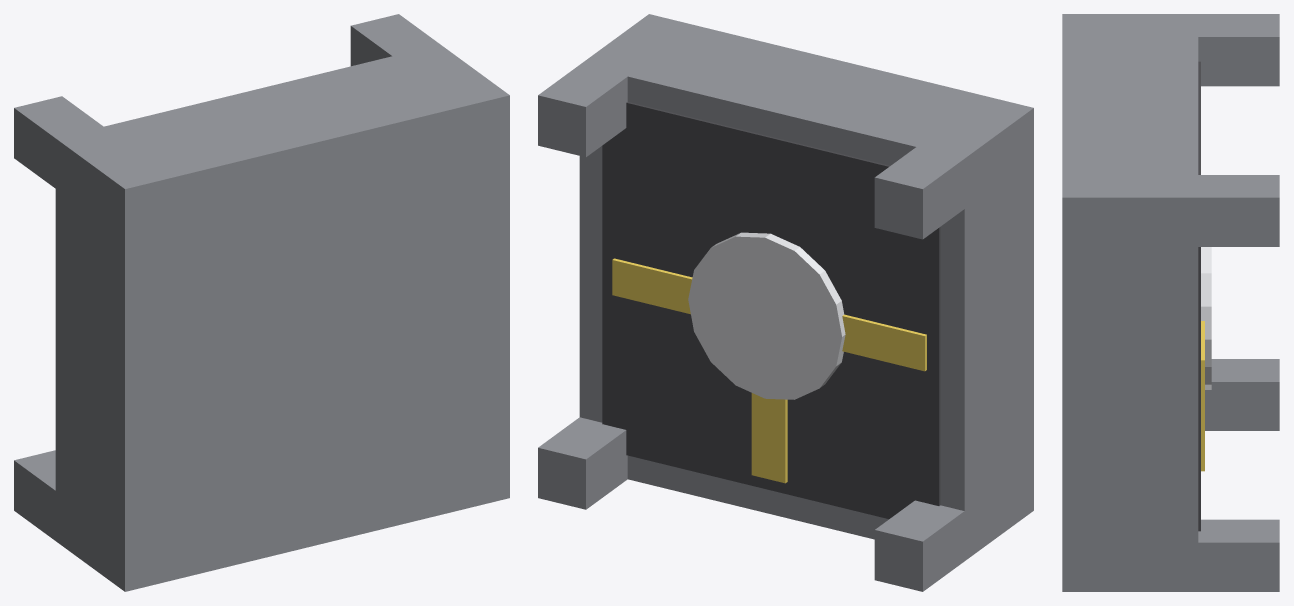
Rendered from sorter_held.gltf.
3 views of the same model, side by side, from view 1: azimuth 30°, elevation 25°; view 2: azimuth 150°, elevation 25°; view 3: azimuth 270°, elevation 25° (orthographic). The views are drawn at different scales.
Visible parts, largest first — view 1: conveyor_sorter_held; view 2: conveyor_sorter_held; view 3: conveyor_sorter_held.
Part boxes in pixels (x1,y1,x2,y2): conveyor_sorter_held: (14,14,509,591); conveyor_sorter_held: (538,14,1033,591); conveyor_sorter_held: (1062,14,1279,591).
Bounding box in the file's own units: 0.16 × 0.16 × 0.08.
